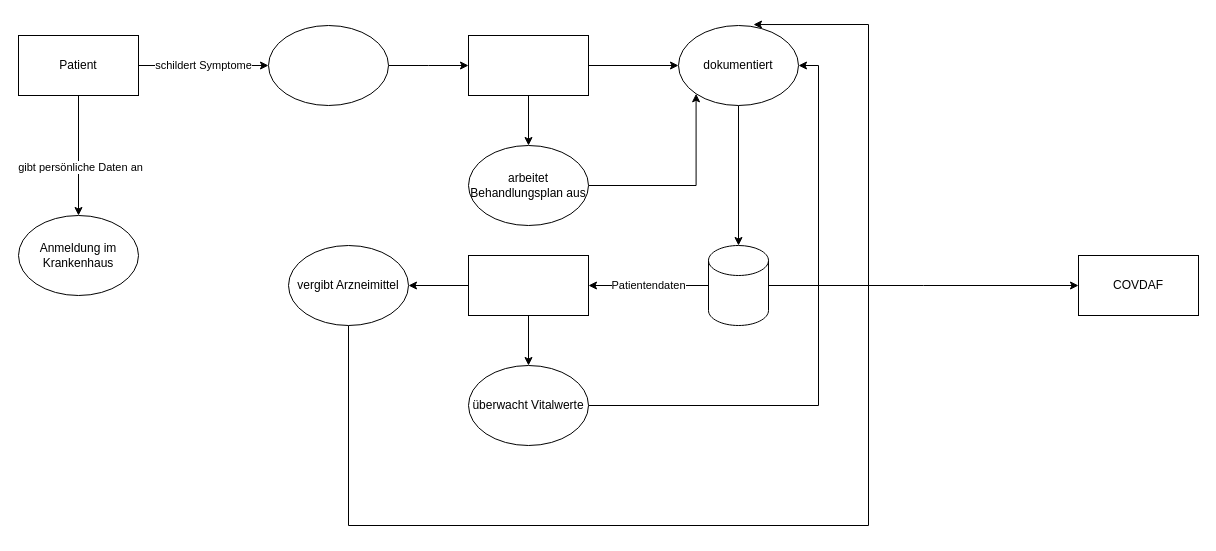
This 1216x551 diagram has some shape labels left out. The shapes that lost their labels are listed below. From the top down, each one's centre as x and y in pixels, then its label:
the point at 328,65: Arztgespräch
the point at 528,65: Arzt
the point at 528,285: Krankenhauspersonal
